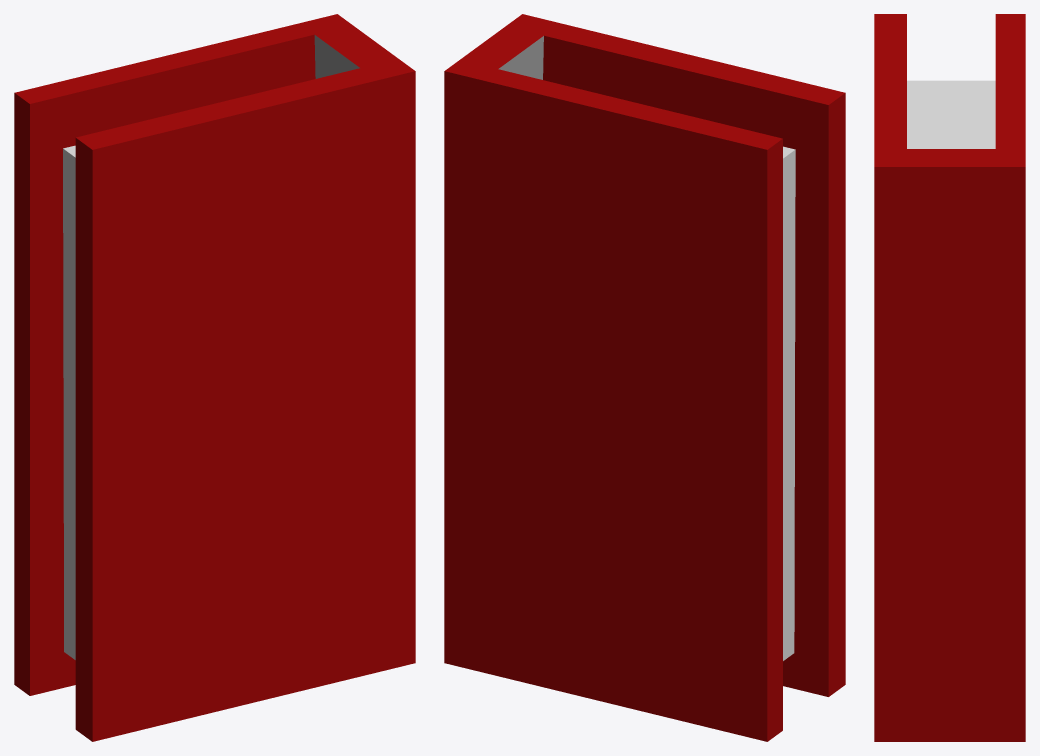
Rendered from book.fbx.
3 renders of one model, left to right at view 1: azimuth 30°, elevation 25°; view 2: azimuth 150°, elevation 25°; view 3: azimuth 270°, elevation 25°, orthographic. The views are drawn at different scales.
Parts seen in each view (by area): view 1: pCube1; view 2: pCube1; view 3: pCube1.
Part boxes in pixels (left/top/right/bottom): pCube1: left=14, top=14, right=415, bottom=741; pCube1: left=444, top=14, right=845, bottom=741; pCube1: left=874, top=14, right=1025, bottom=741.
Size of the model in its own units: 33.5 by 58.68 by 14.02.
